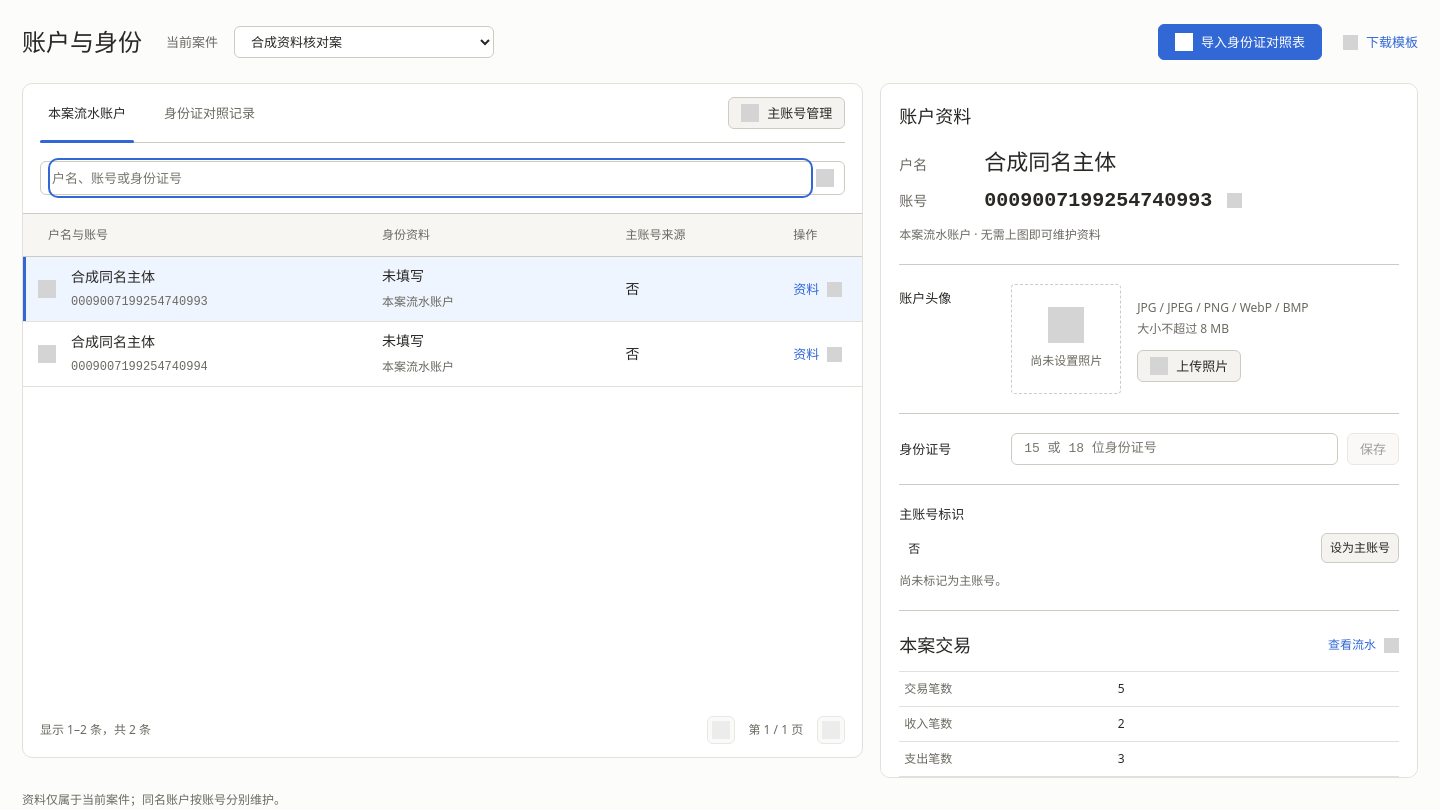
it: AccountWorkspace › completes text with Shift+Enter without reading profiles, querying the list or saving, and leaves IME Enter to the input method
Expected: the field labelled "身份证号" is shown, [1011,433,1338,465]
Step 1. Type "合" into the dropdown named "搜索户名或账号" → (431, 178), box [52,162,809,194]
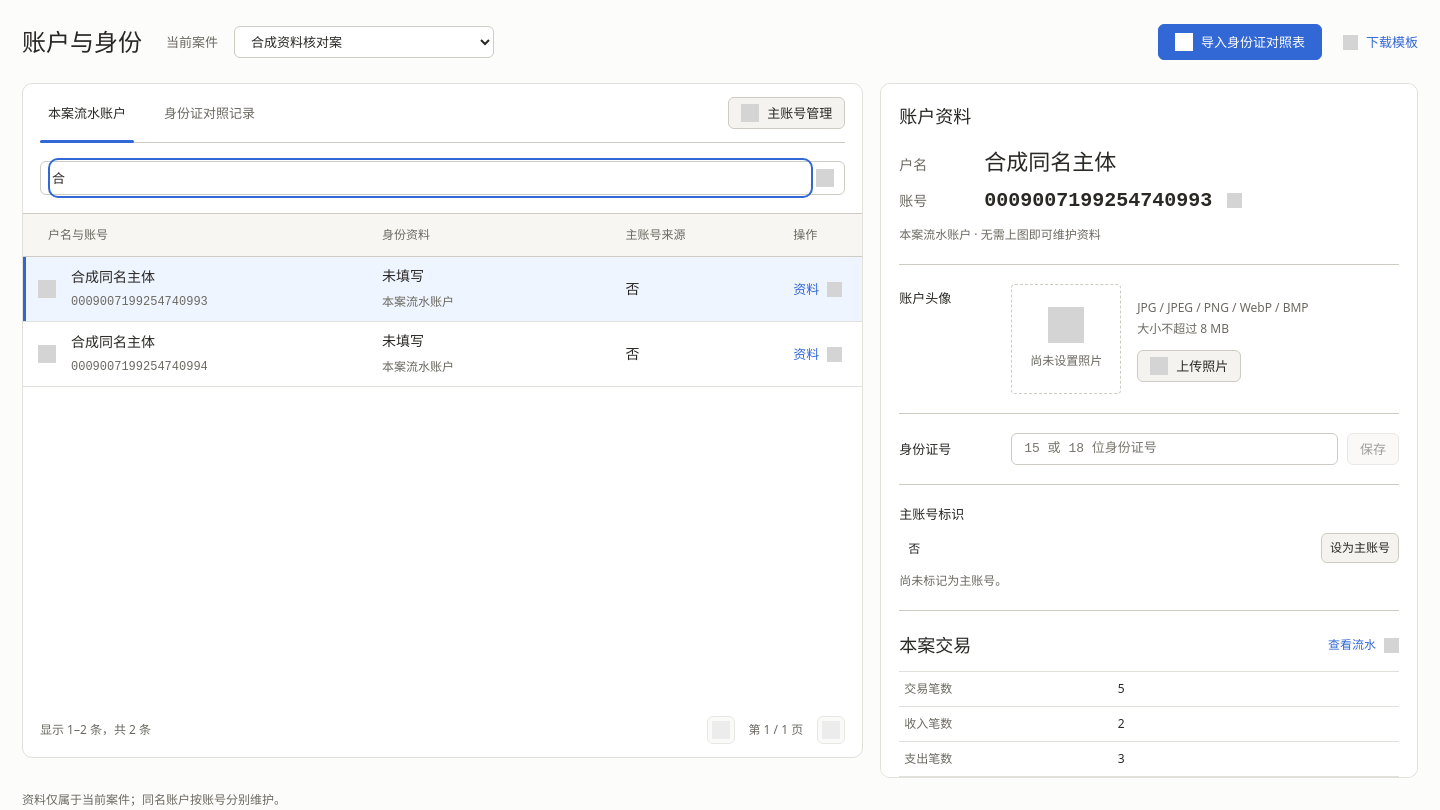
Step 2. Press Enter in the dropdown named "搜索户名或账号", box [52,162,809,194]
Step 3. Submit the form named "搜索户名或账号", box [40,161,845,195]
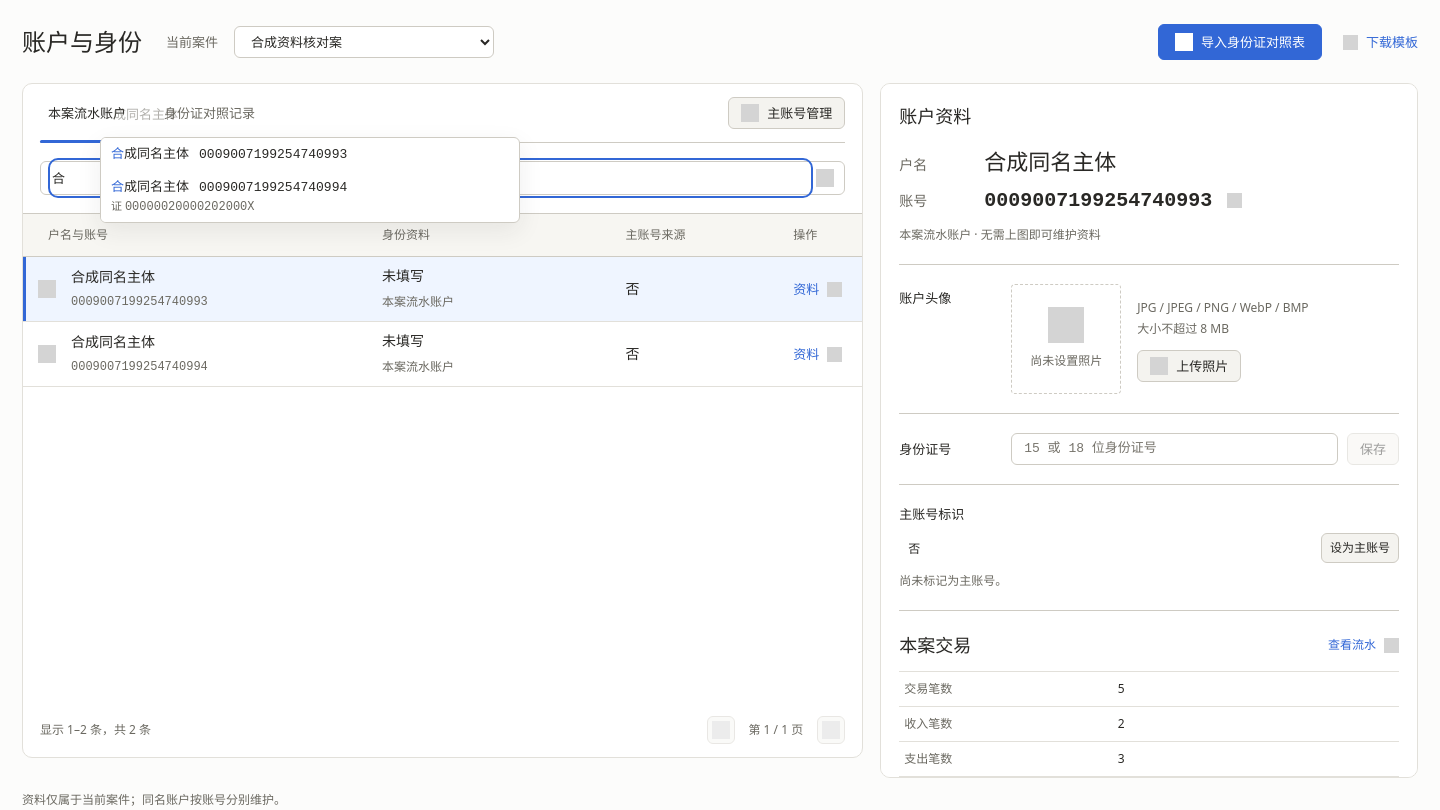
Now the option "合成同名主体 0009007199254740993" is shown, box [101,138,510,171]
Now the text with class "fep-ghost-suffix" reads "成同名主体", box [113,105,178,123]
Step 4. Press Enter in the dropdown named "搜索户名或账号", box [52,162,809,194]
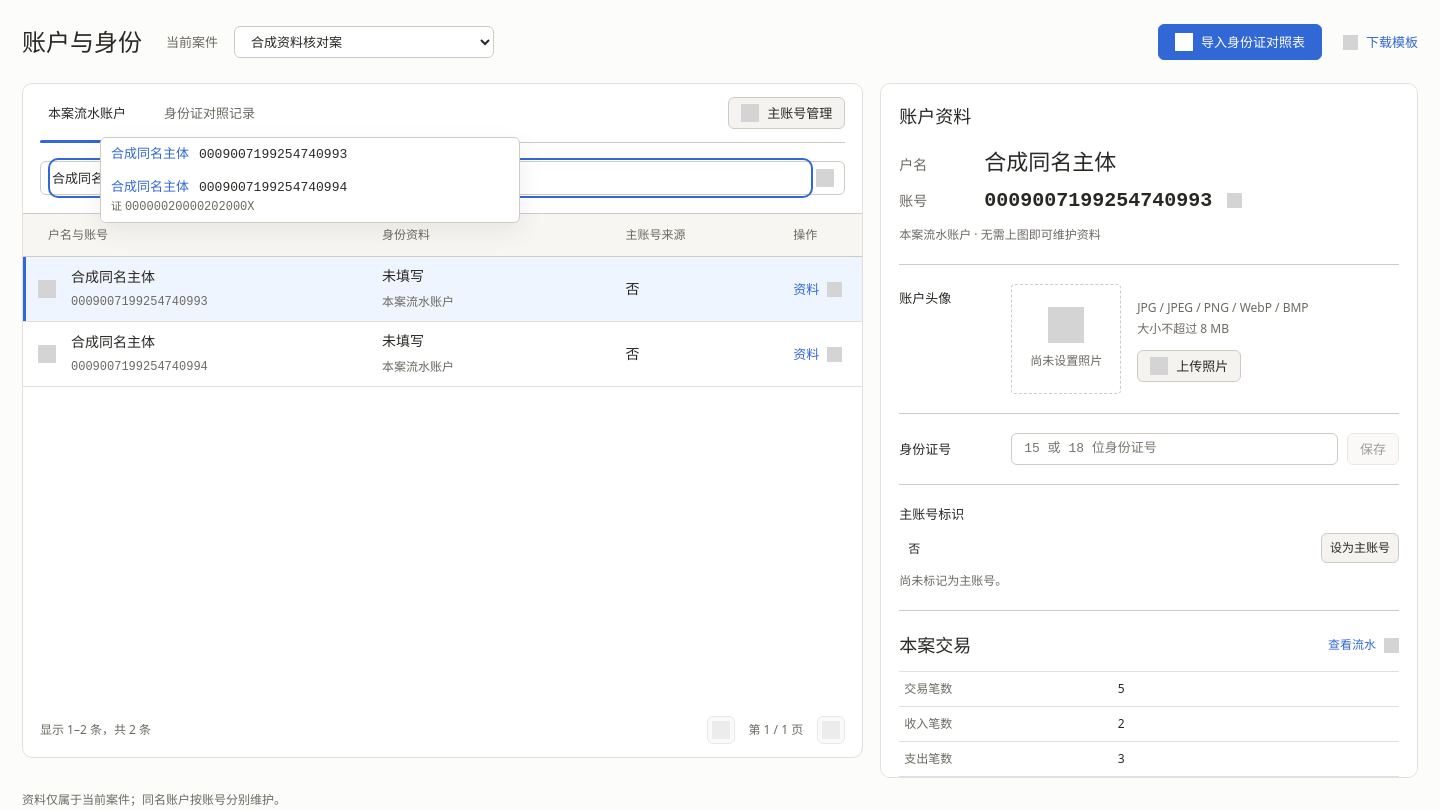
Now the dropdown named "搜索户名或账号" holds "合成同名主体", box [52,162,809,194]
